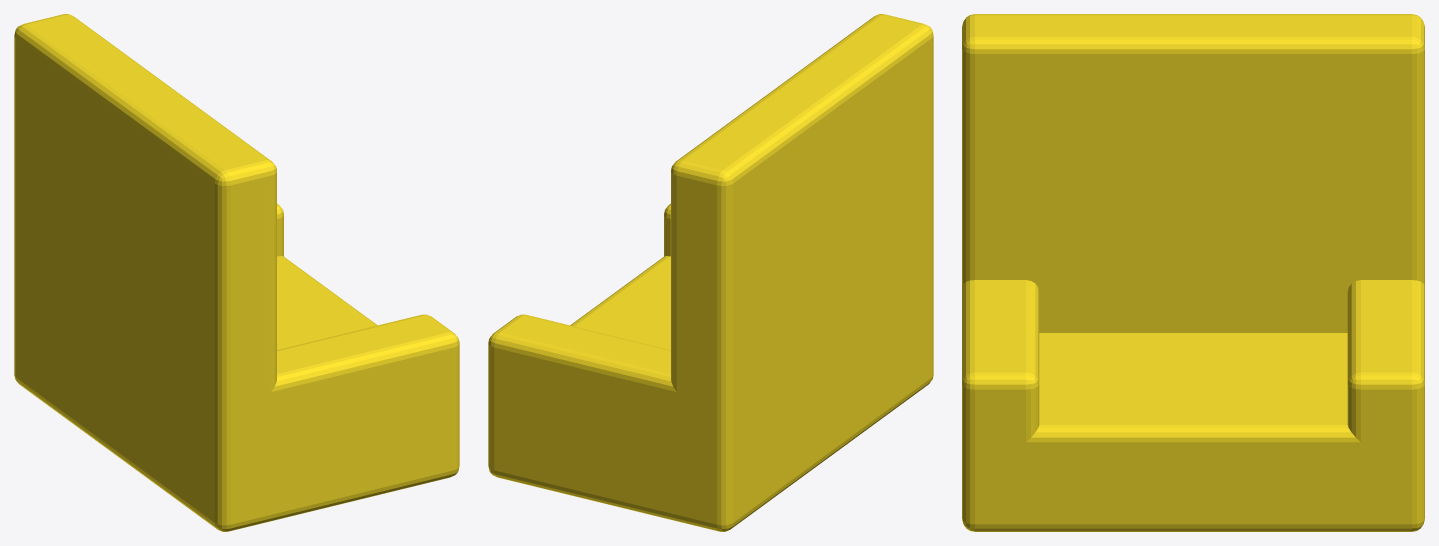
The model's file is openscad_customizable-furniture-minis_L1_Q0__gpt61_sol.glb.
The picture shows the model from 3 angles, left to right: view 1: azimuth 30°, elevation 25°; view 2: azimuth 150°, elevation 25°; view 3: azimuth 270°, elevation 25°; orthographic projection. The views are drawn at different scales.
Parts seen in each view (by area): view 1: object; view 2: object; view 3: object.
Boxes of the visible parts, bbox=[...] form: object: bbox=[14, 14, 459, 531]; object: bbox=[488, 14, 933, 531]; object: bbox=[962, 14, 1424, 531].
Size of the model in its own units: 18.29 by 25.91 by 27.43.
